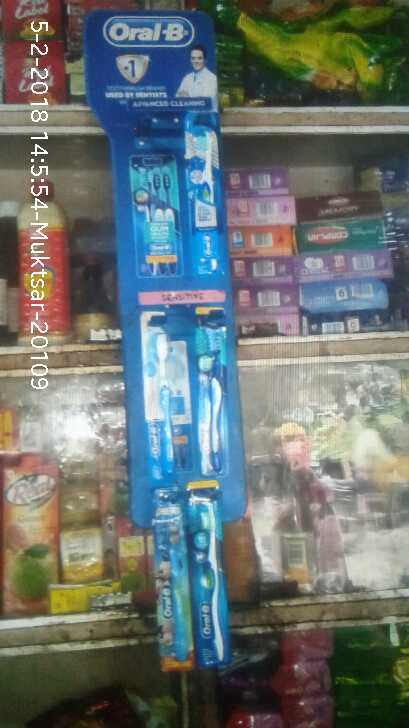oralb: (182, 118, 236, 276), (148, 520, 193, 666), (197, 319, 236, 482), (145, 328, 183, 478), (198, 501, 228, 661)
